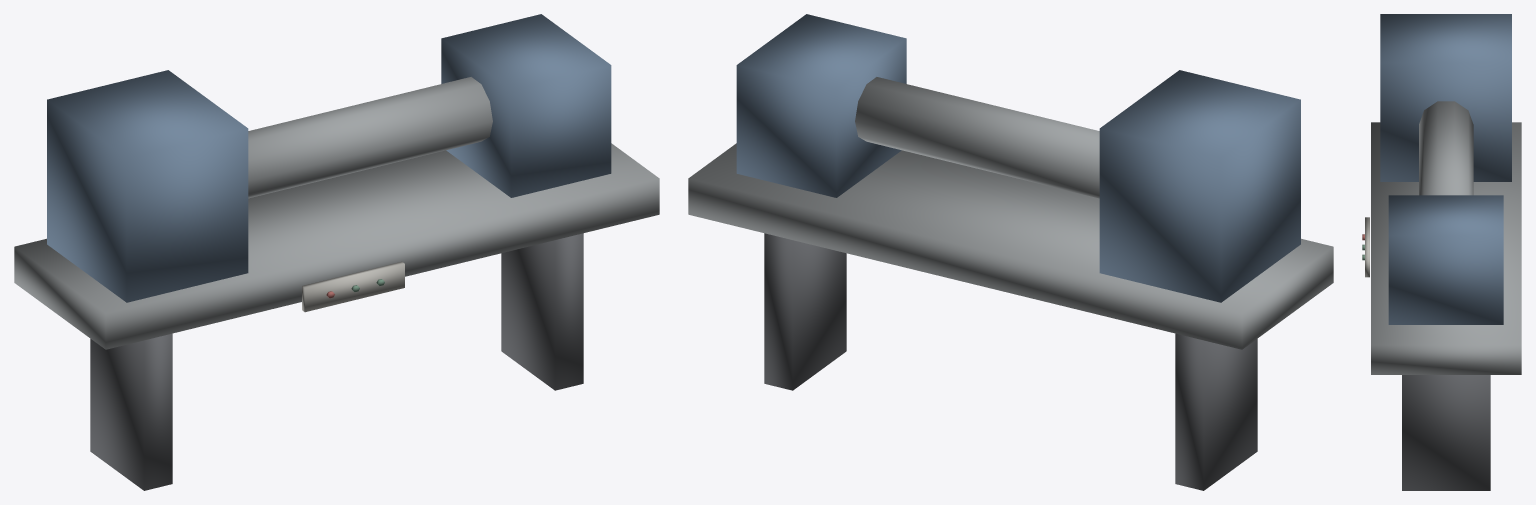
The model's file is metal_lathe_silhouette__wide.glb.
3 renders of one model, left to right at view 1: azimuth 30°, elevation 25°; view 2: azimuth 150°, elevation 25°; view 3: azimuth 270°, elevation 25°, orthographic. The views are drawn at different scales.
Visible parts, largest first — view 1: world; view 2: world; view 3: world.
Part boxes in pixels (bbox=[...]): world: bbox=[14, 14, 659, 490]; world: bbox=[688, 14, 1333, 490]; world: bbox=[1362, 14, 1521, 490].
Size of the model in its own units: 1.92 by 1.16 by 0.581.
